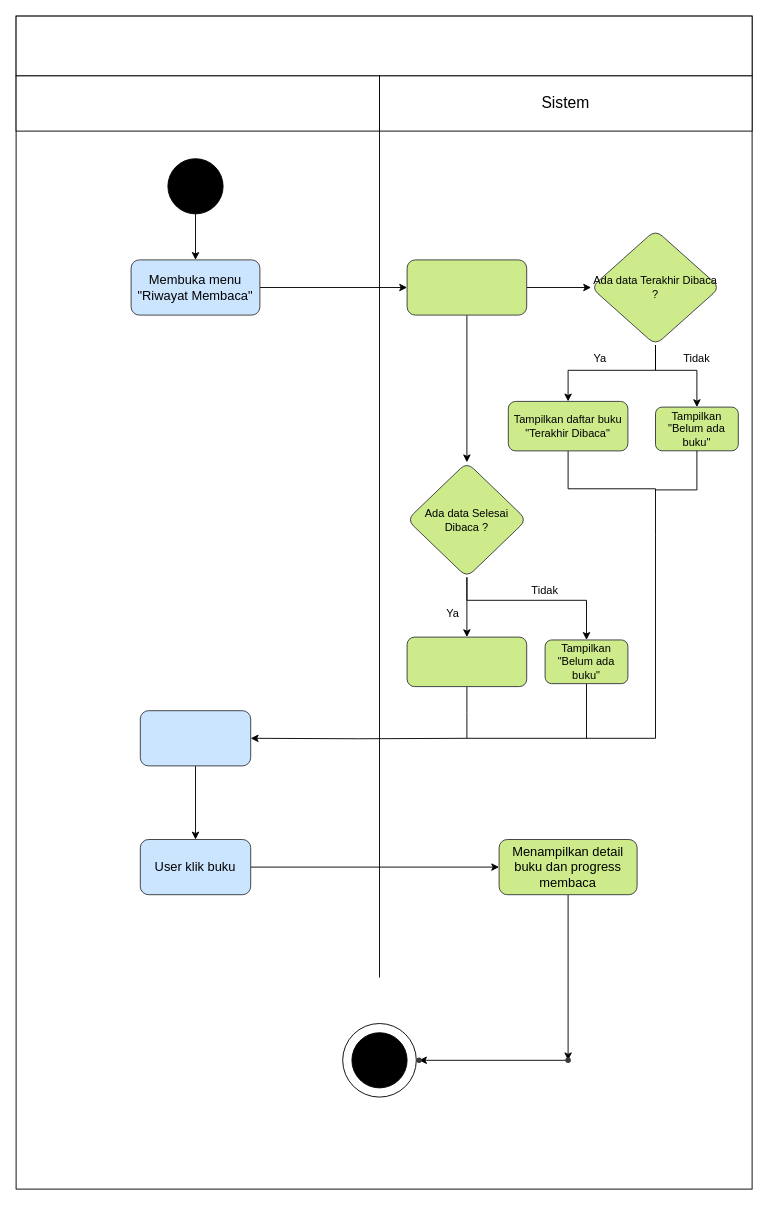
This 768x1205 diagram has some shape labels left out. The shapes that lost their labels are listed below. From the top down, each one's box as (x1, y1, x2, y2) in pixels, then its label:
(15, 15, 752, 76): ACTIVITY DIAGRAM MELIHAT RIWAYAT MEMBACA
(15, 75, 380, 131): User
(406, 259, 527, 315): Mengambil data buku dari database
(406, 636, 527, 687): Tampilkan daftar buku "Selesai Dibaca"
(139, 710, 251, 766): User melihat daftar Riiwayat Membaca
